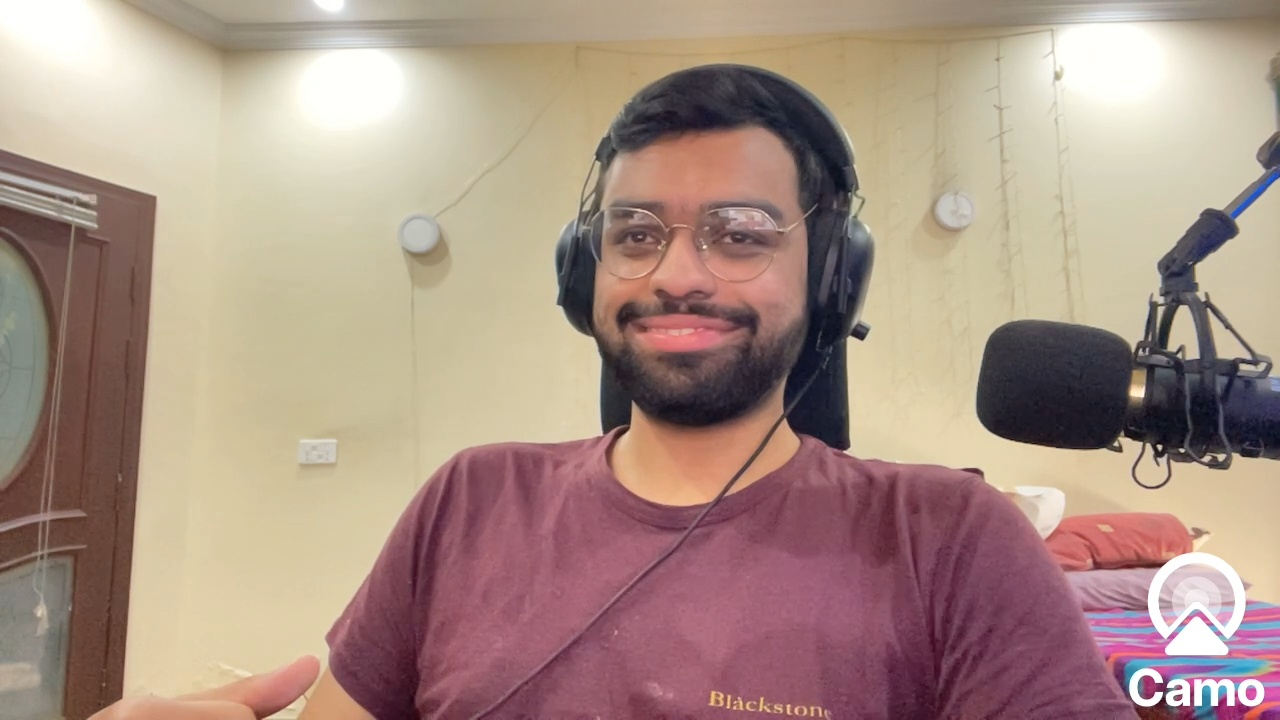happy: (584, 128, 811, 413), (793, 413, 807, 422)
